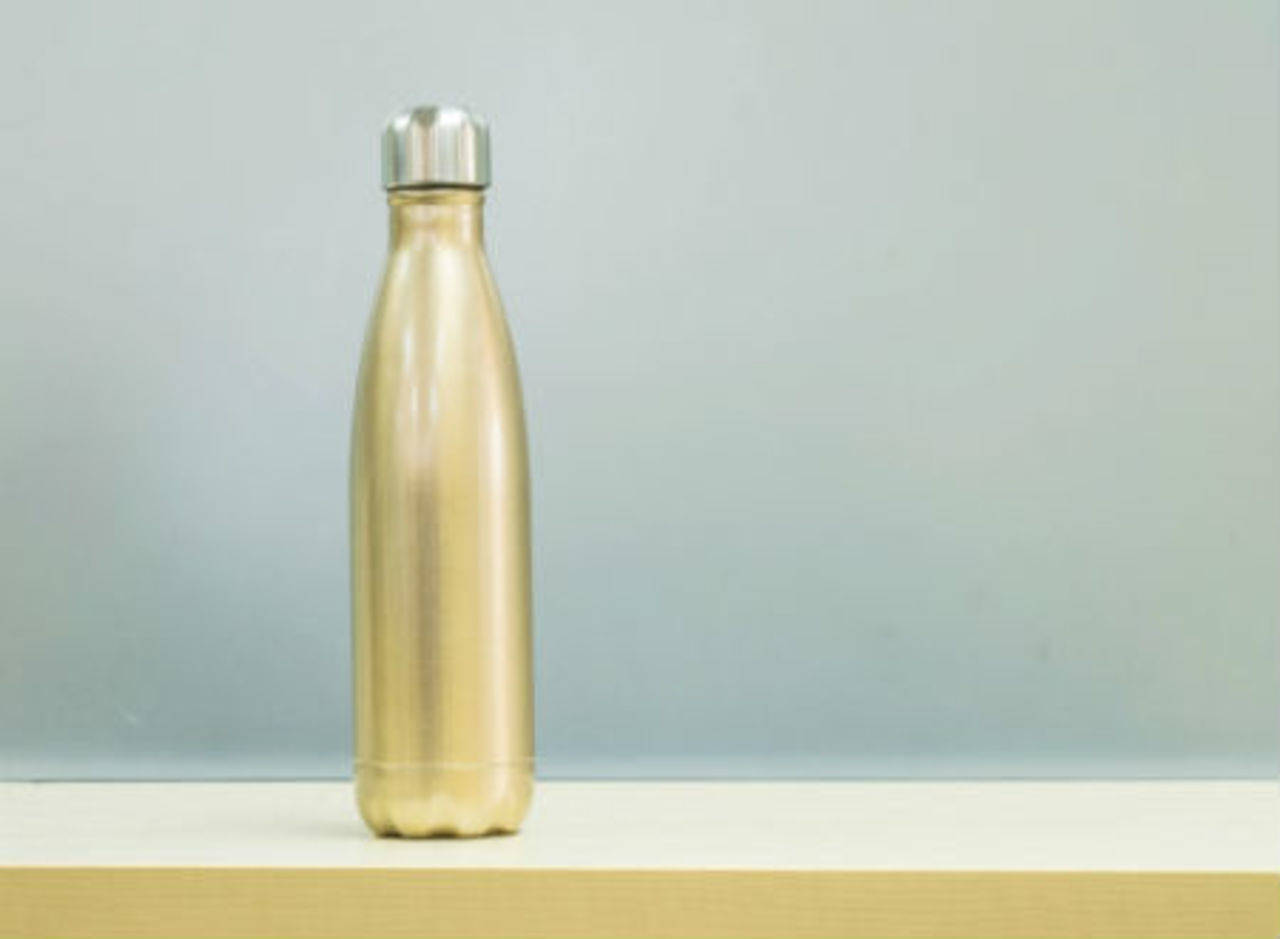bottle_cap: (337, 78, 553, 208)
water_bottle: (311, 81, 590, 858)
